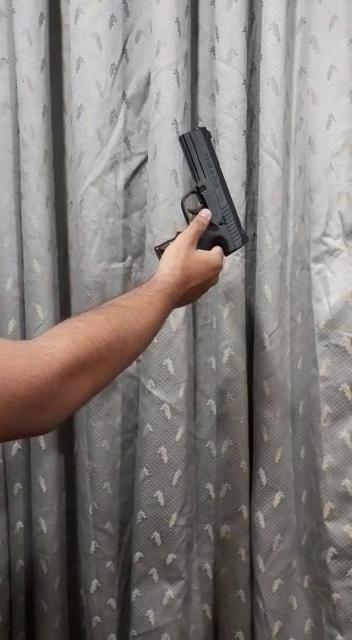weapon: (149, 119, 255, 276)
